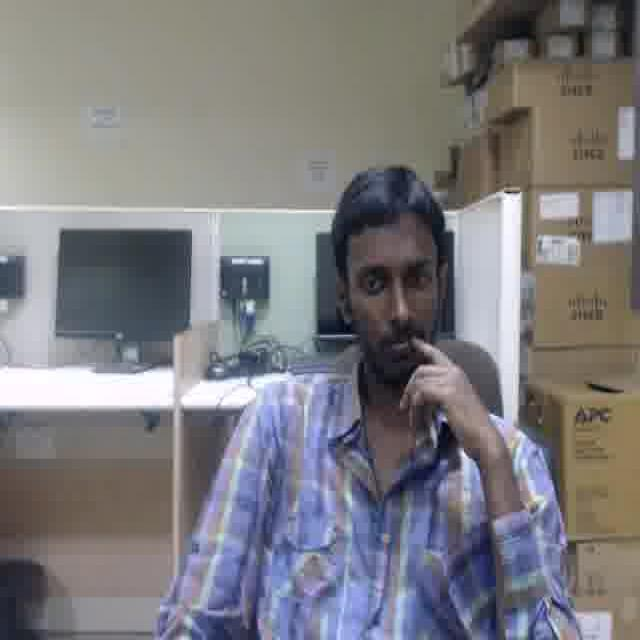Engaged: (346, 222, 435, 370)
